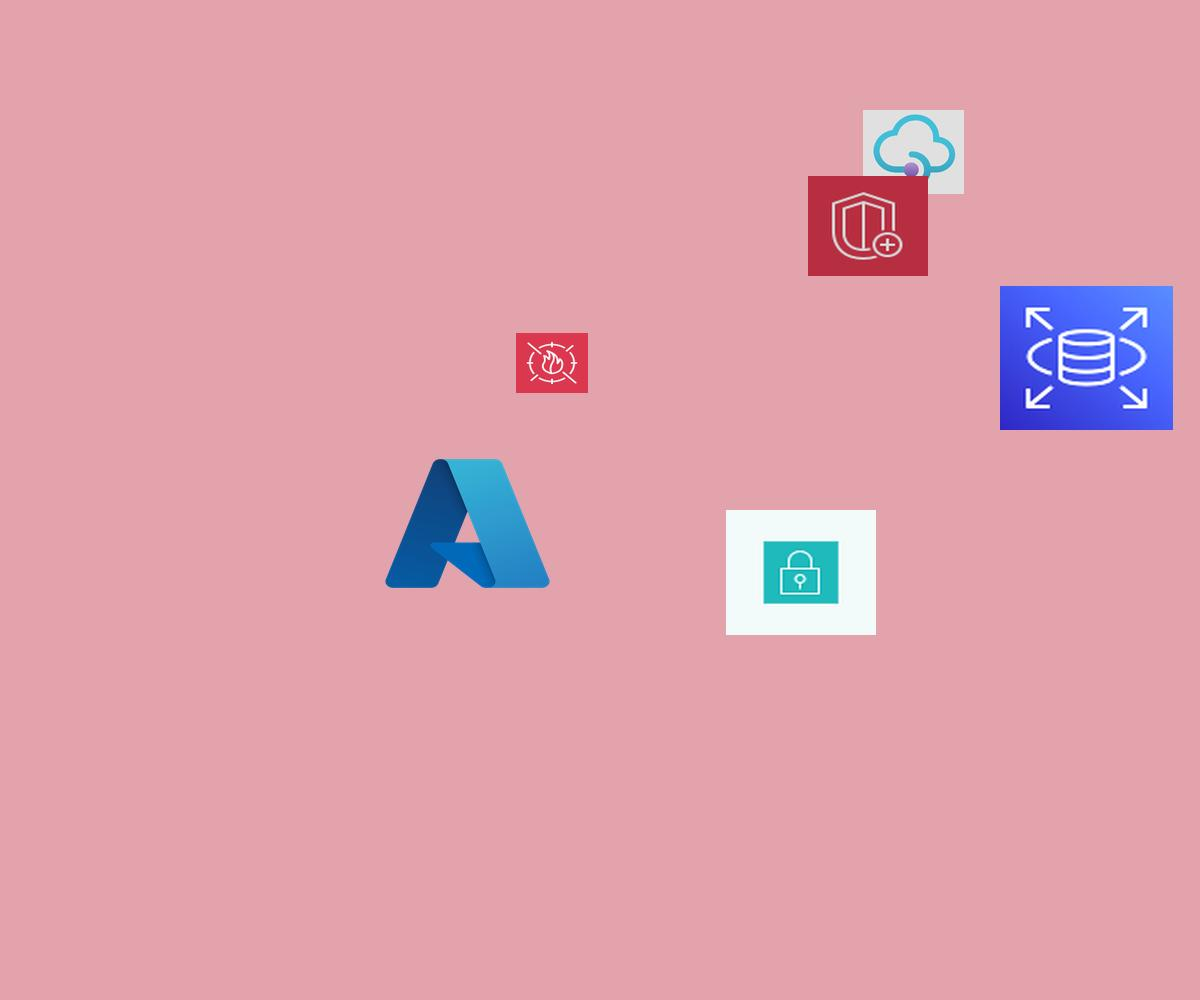AWS-Private-subnet: (726, 510, 876, 635)
AWS-RDS: (1000, 286, 1173, 430)
AWS-Shield: (808, 176, 928, 276)
AWS-WAF: (516, 333, 588, 393)
Azure_api_gateway: (863, 110, 964, 194)
Azure_services: (378, 449, 557, 598)
